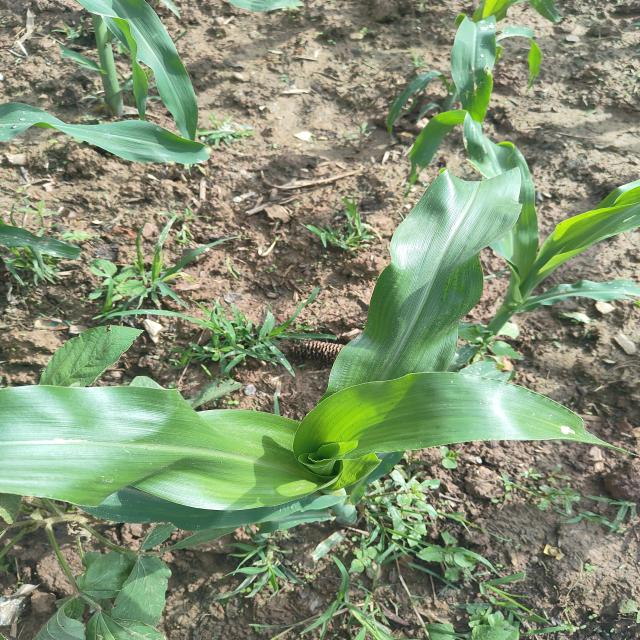maize: (0, 284, 640, 536), (398, 114, 637, 383), (27, 0, 208, 137), (363, 1, 570, 104)
weed: (302, 558, 602, 640), (496, 458, 634, 530), (176, 315, 317, 381), (102, 240, 216, 316), (363, 470, 458, 550), (299, 186, 385, 252), (238, 521, 303, 588)
